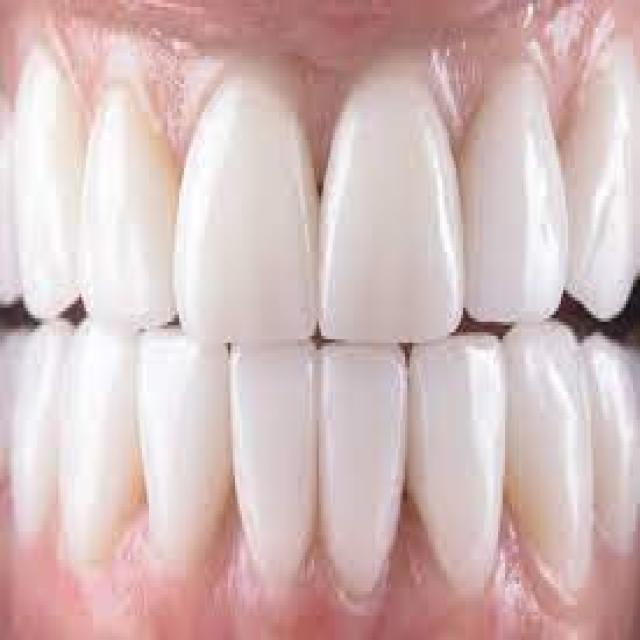tooth: (331, 101, 458, 336), (189, 115, 314, 336), (477, 66, 561, 318), (417, 350, 505, 580), (233, 353, 319, 570), (512, 332, 586, 584), (140, 346, 226, 560), (88, 133, 177, 325), (328, 360, 400, 591), (18, 73, 82, 308), (65, 339, 133, 553), (570, 84, 638, 287), (591, 332, 633, 553), (16, 325, 58, 521), (2, 116, 16, 304)
